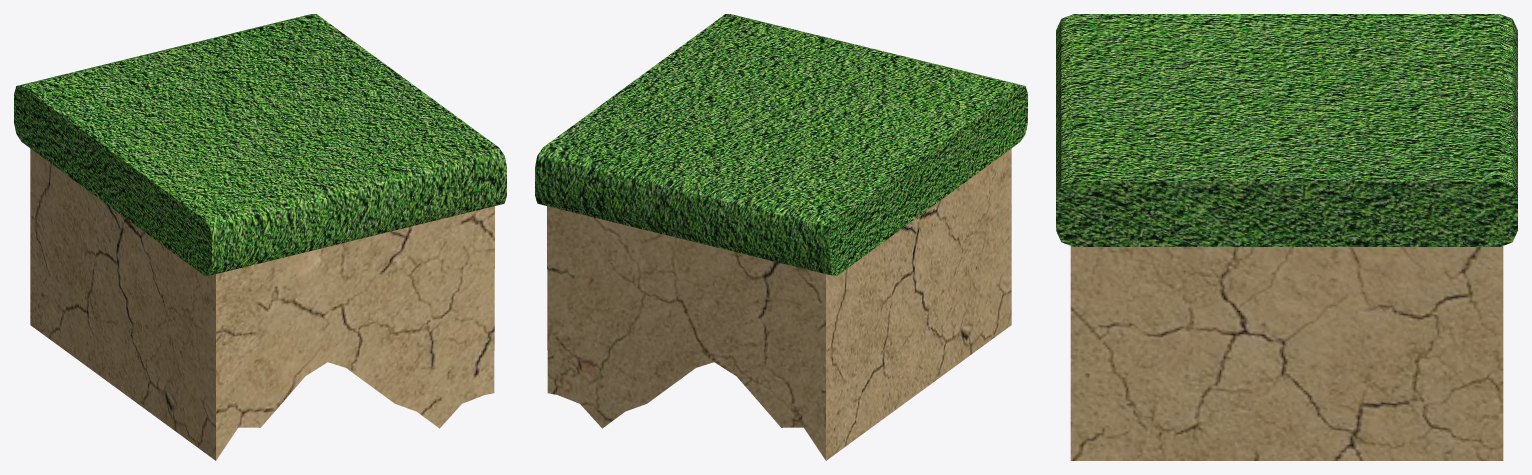
Rendered from plataformaFragmentoPicos.fbx.
3 renders of one model, left to right at view 1: azimuth 30°, elevation 25°; view 2: azimuth 150°, elevation 25°; view 3: azimuth 270°, elevation 25°, orthographic. The views are drawn at different scales.
Parts seen in each view (by area): view 1: tapaPlataformaPicosFragmento, plataformaPicosFragmento; view 2: tapaPlataformaPicosFragmento, plataformaPicosFragmento; view 3: tapaPlataformaPicosFragmento, plataformaPicosFragmento.
Part boxes in pixels (x1,y1,x2,y2): tapaPlataformaPicosFragmento: (14,14,506,275); plataformaPicosFragmento: (30,148,494,460); tapaPlataformaPicosFragmento: (535,14,1027,275); plataformaPicosFragmento: (547,148,1011,460); tapaPlataformaPicosFragmento: (1056,14,1517,246); plataformaPicosFragmento: (1070,246,1503,460).
Size of the model in its own units: 2.75 by 2.36 by 3.2.
